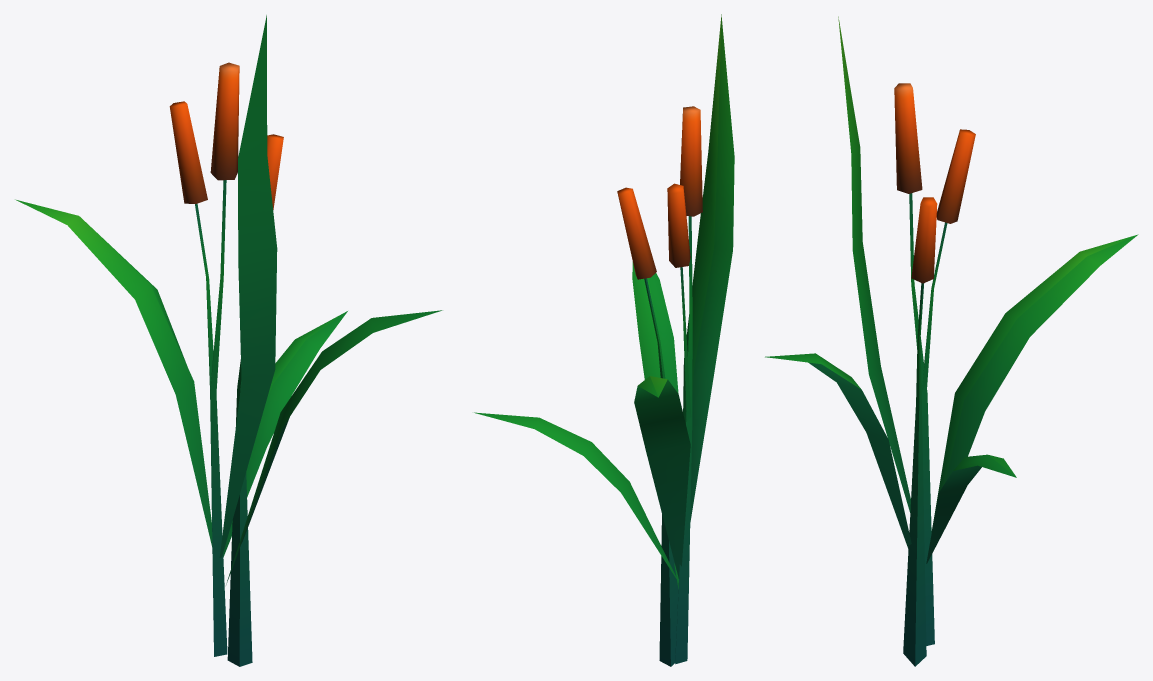
Rendered from Reed_1C.fbx.
The picture shows the model from 3 angles, left to right: view 1: azimuth 30°, elevation 25°; view 2: azimuth 150°, elevation 25°; view 3: azimuth 270°, elevation 25°; orthographic projection. The views are drawn at different scales.
Parts seen in each view (by area): view 1: Reed_1C; view 2: Reed_1C; view 3: Reed_1C.
Boxes of the visible parts, <box> form: Reed_1C: <box>15,15,442,666</box>; Reed_1C: <box>474,14,734,666</box>; Reed_1C: <box>765,16,1138,666</box>.
Size of the model in its own units: 72.84 by 177 by 94.16.
